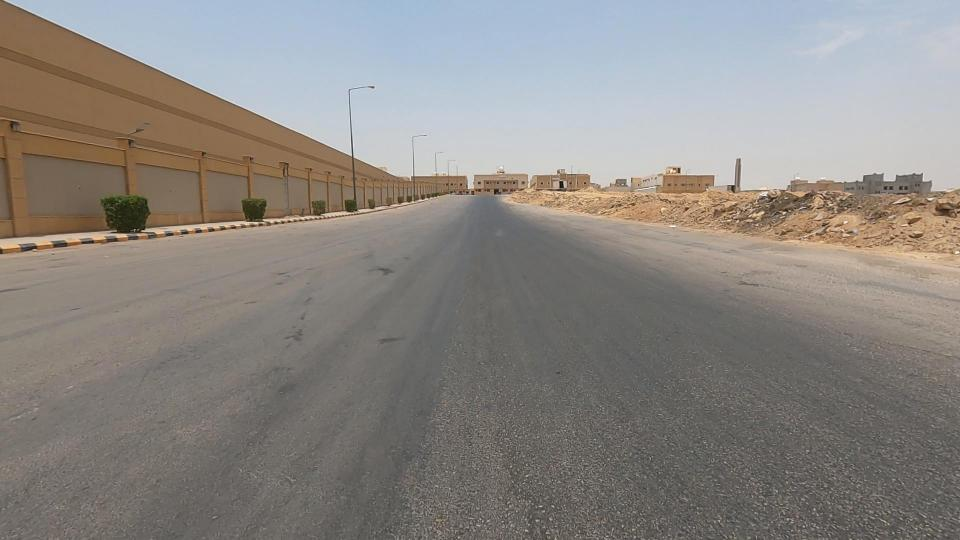SAND_ON_ROAD: (564, 172, 653, 234), (629, 180, 717, 236)
